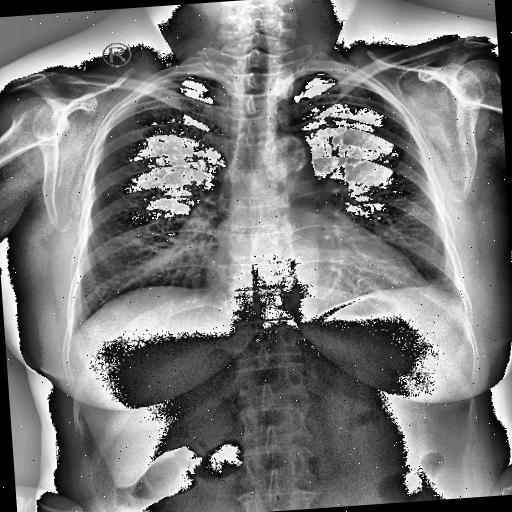2- Calcification: (269, 129, 311, 175), (276, 130, 316, 178), (284, 130, 316, 173)
5- ILD: (66, 207, 218, 307), (327, 212, 463, 298)
